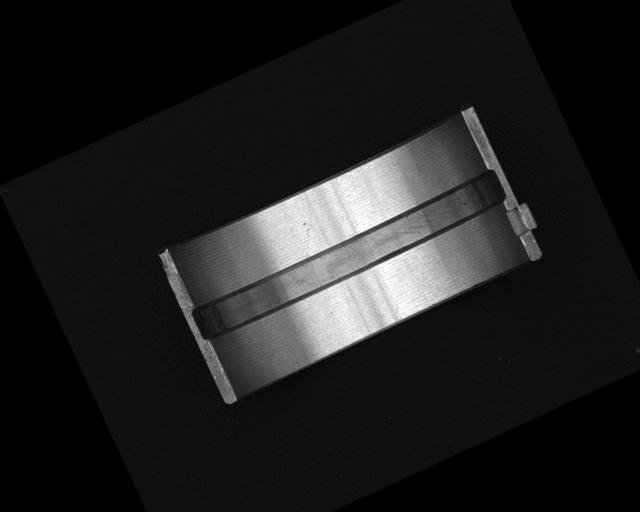gap: (187, 166, 512, 344)
